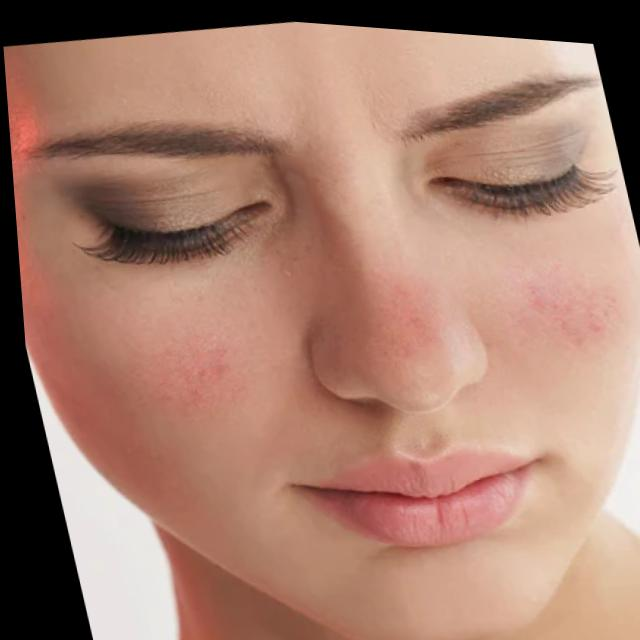skinredness: (484, 229, 637, 370), (112, 312, 270, 432)
